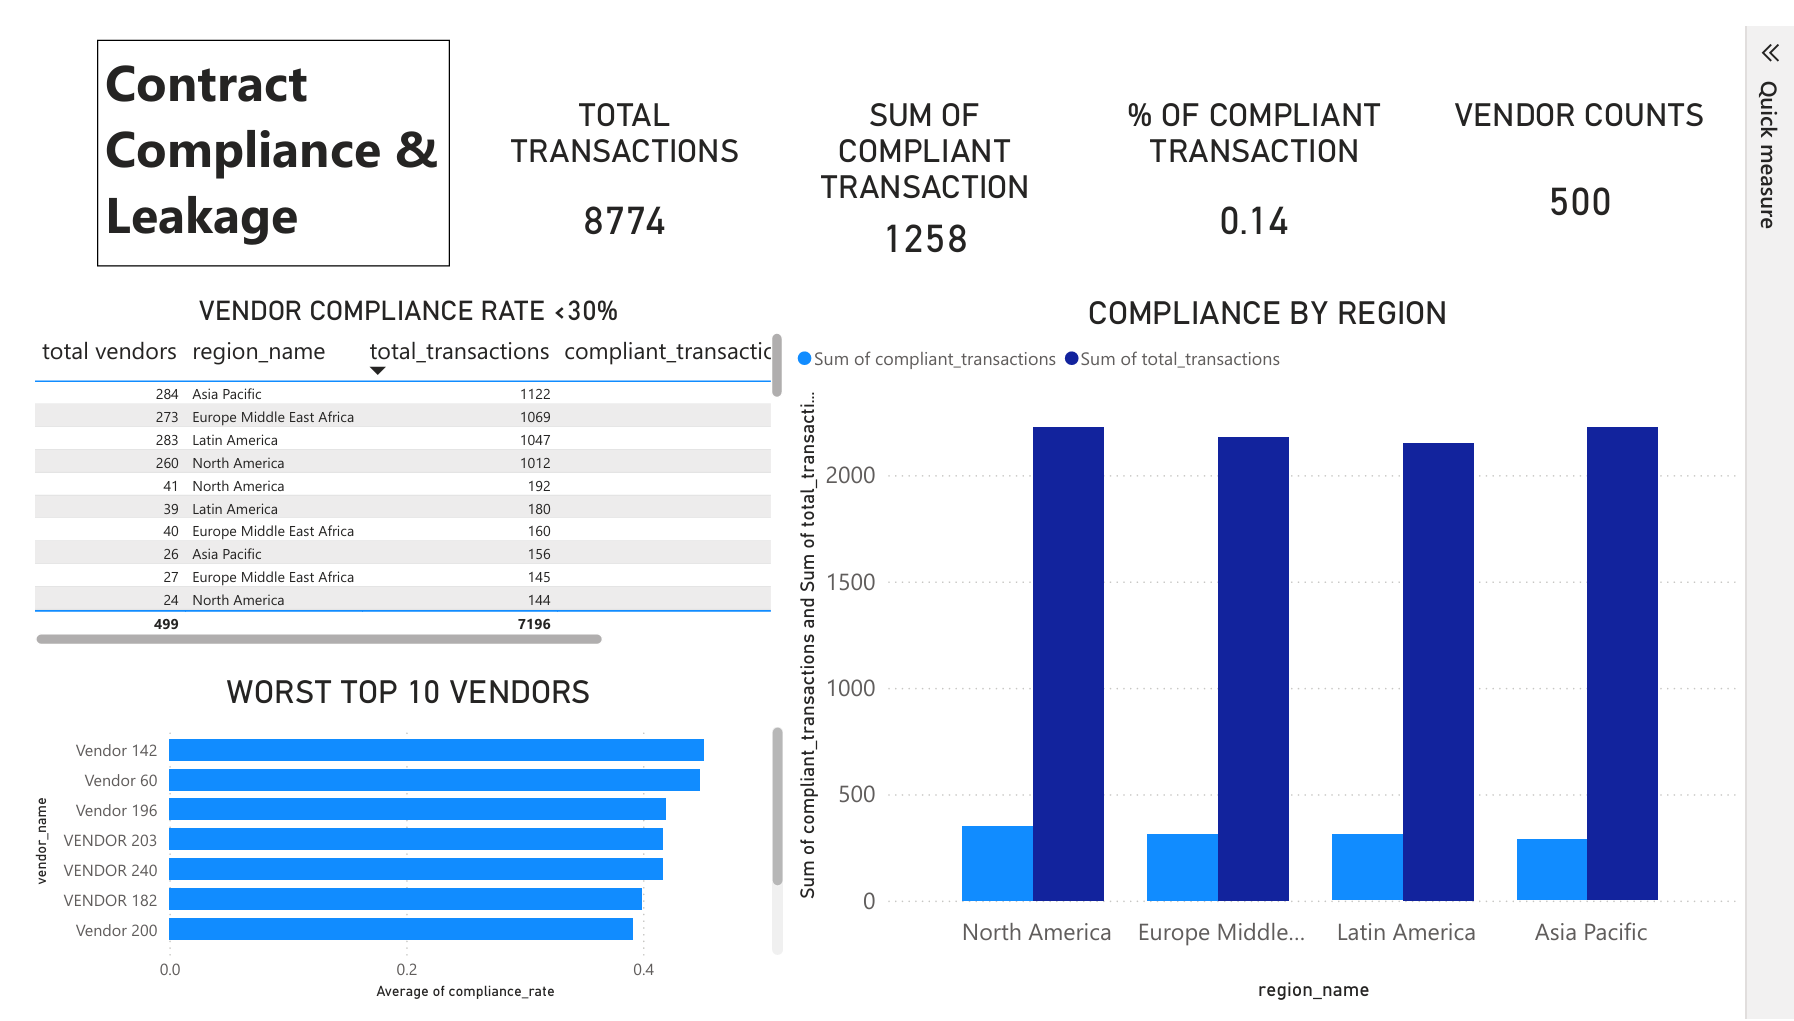

The dashboard page shown, as its layout file describes it:
{"tool":"powerbi","page":{"name":"Contract _Compliance_&_Leakage","canvas":[1280,720],"ordinal":2},"visuals":[{"type":"card","title":"% OF COMPLIANT TRANSACTION","fields":{"Values":["Avg(analytics vw_contract_compliance (3).compliance_rate)"]},"box":[814,42,200,126],"z":0},{"type":"card","title":"SUM OF COMPLIANT TRANSACTION","fields":{"Values":["Sum(analytics vw_contract_compliance (3).compliant_transactions)"]},"box":[567.8,41.7,201.3,126.9],"z":1000},{"type":"textbox","box":[52.4,0,262.2,169.2],"z":4000},{"type":"card","title":"TOTAL TRANSACTIONS","fields":{"Values":["Sum(analytics vw_contract_compliance (3).total_transactions)"]},"box":[344,42,202,126],"z":5000},{"type":"card","title":"VENDOR COUNTS","fields":{"Values":["Count(analytics vw_contract_compliance (3).vendor_name)"]},"box":[1056,42,200,126],"z":6000},{"type":"clusteredColumnChart","title":"COMPLIANCE BY REGION","fields":{"Category":["analytics vw_contract_compliance (3).region_name"],"Y":["Sum(analytics vw_contract_compliance (3).total_transactions)","Sum(analytics vw_contract_compliance (3).compliant_transactions)"]},"box":[568,190,712,530],"z":7000},{"type":"barChart","title":"WORST TOP 10 VENDORS","fields":{"Category":["analytics vw_contract_compliance (3).vendor_name"],"Y":["Avg(analytics vw_contract_compliance (3).compliance_rate)"]},"box":[0,472,568,248],"z":8000},{"type":"tableEx","title":"VENDOR COMPLIANCE RATE <30%","fields":{"Values":["analytics vw_contract_compliance (3).vendor_name","analytics vw_contract_compliance (3).region_name","Sum(analytics vw_contract_compliance (3).total_transactions)","Sum(analytics vw_contract_compliance (3).compliant_transactions)","analytics vw_contract_compliance (3).compliance_rate"]},"box":[0,190,568,266],"z":9000}]}

Visuals, with their boxes on the page's 1280x720 design canvas (x1, y1, x2, y2). These are canvas units, not pixel positions in the 1794x1021 screenshot, which may show the page scaled, cropped or inside an application window:
"% OF COMPLIANT TRANSACTION" card: <box>814,42,1014,168</box>
"SUM OF COMPLIANT TRANSACTION" card: <box>568,42,769,169</box>
textbox: <box>52,0,315,169</box>
"TOTAL TRANSACTIONS" card: <box>344,42,546,168</box>
"VENDOR COUNTS" card: <box>1056,42,1256,168</box>
"COMPLIANCE BY REGION" clusteredColumnChart: <box>568,190,1280,720</box>
"WORST TOP 10 VENDORS" barChart: <box>0,472,568,720</box>
"VENDOR COMPLIANCE RATE <30%" tableEx: <box>0,190,568,456</box>
